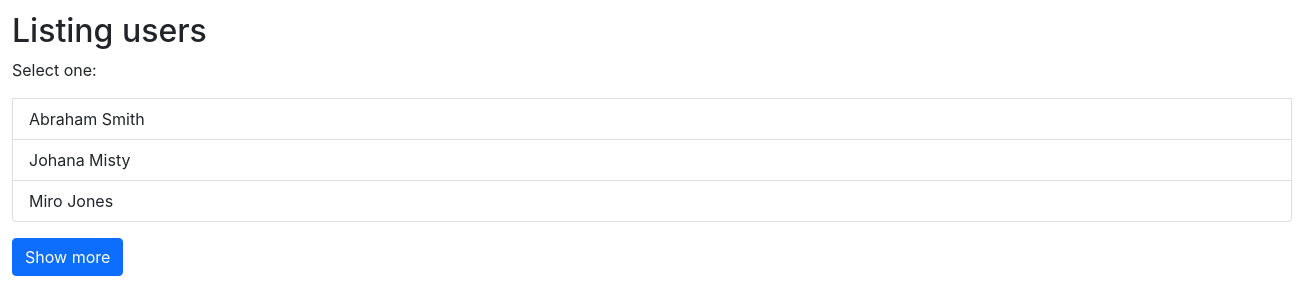
Test: Users list › selects second user from the list and renders posts list feature
Expected: the text "MockedPosts" is not shown
Click the option "Johana Misty". click: (80, 160)
box: [12,140,1292,181]
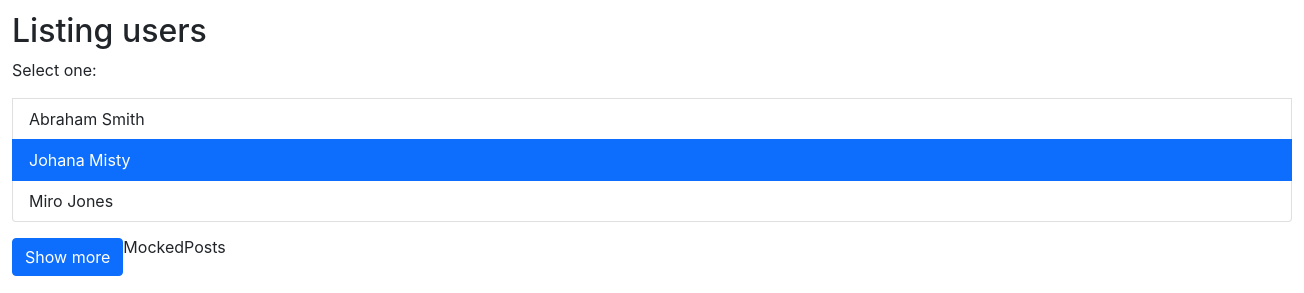
Now the text "MockedPosts" is shown, box [123,238,226,258]
